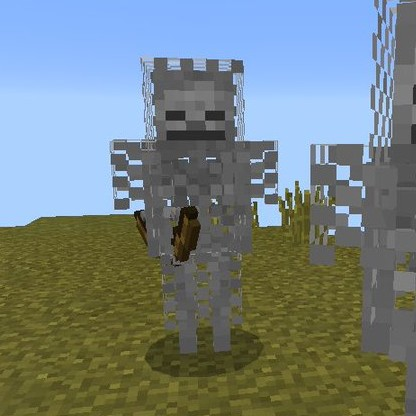skeleton: (125, 54, 261, 361)
